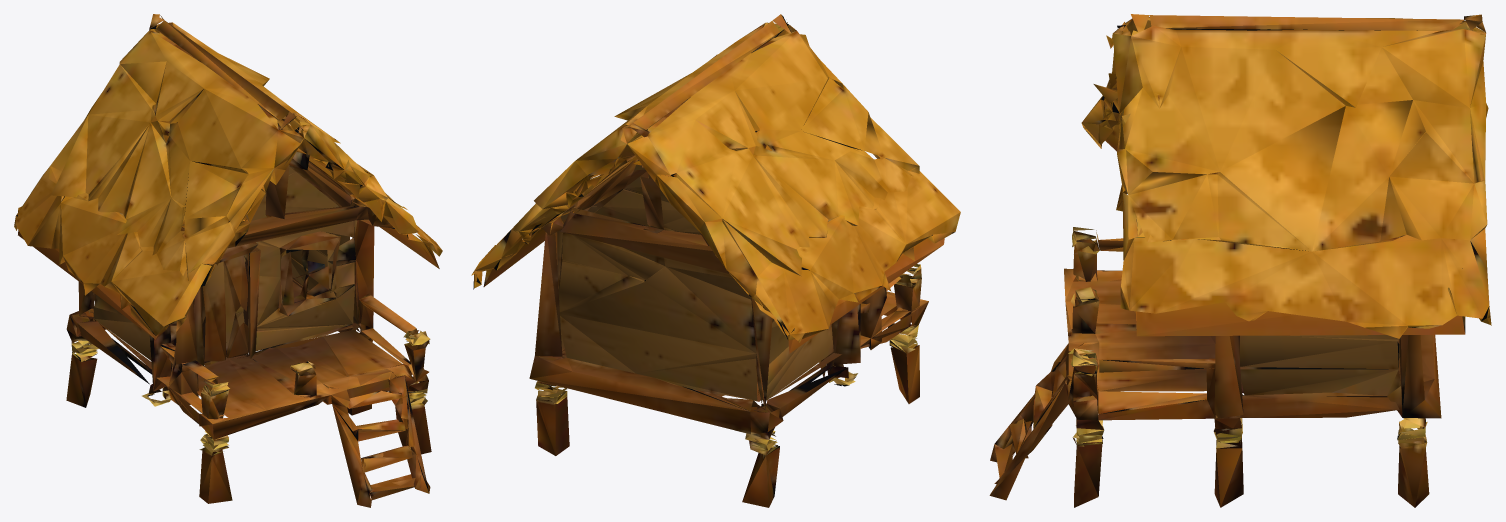
Rendered from hut.tex.glb.
3 views of the same model, side by side, from view 1: azimuth 30°, elevation 25°; view 2: azimuth 150°, elevation 25°; view 3: azimuth 270°, elevation 25° (orthographic). The views are drawn at different scales.
Parts seen in each view (by area): view 1: hut; view 2: hut; view 3: hut.
Part boxes in pixels (bbox=[...]): hut: bbox=[14, 14, 442, 507]; hut: bbox=[471, 14, 960, 507]; hut: bbox=[989, 14, 1491, 507].
Size of the model in its own units: 5.14 by 5.51 by 5.75.
Materials: 1 (1 with a texture image).
